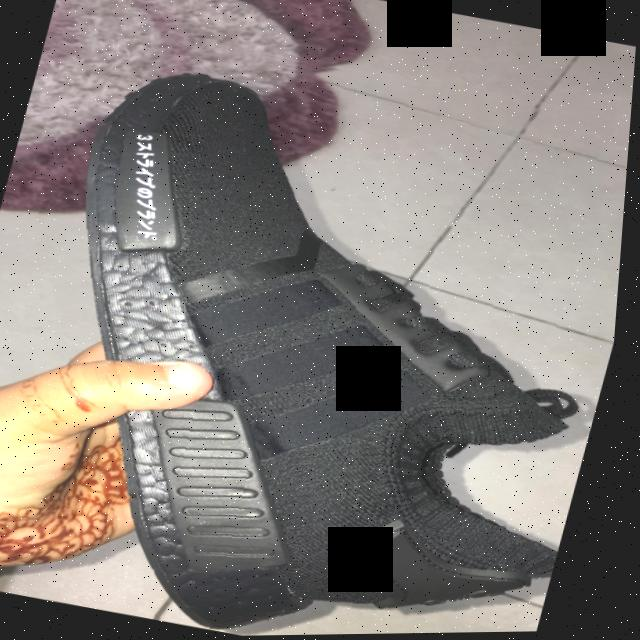shoe: (0, 7, 639, 640)
